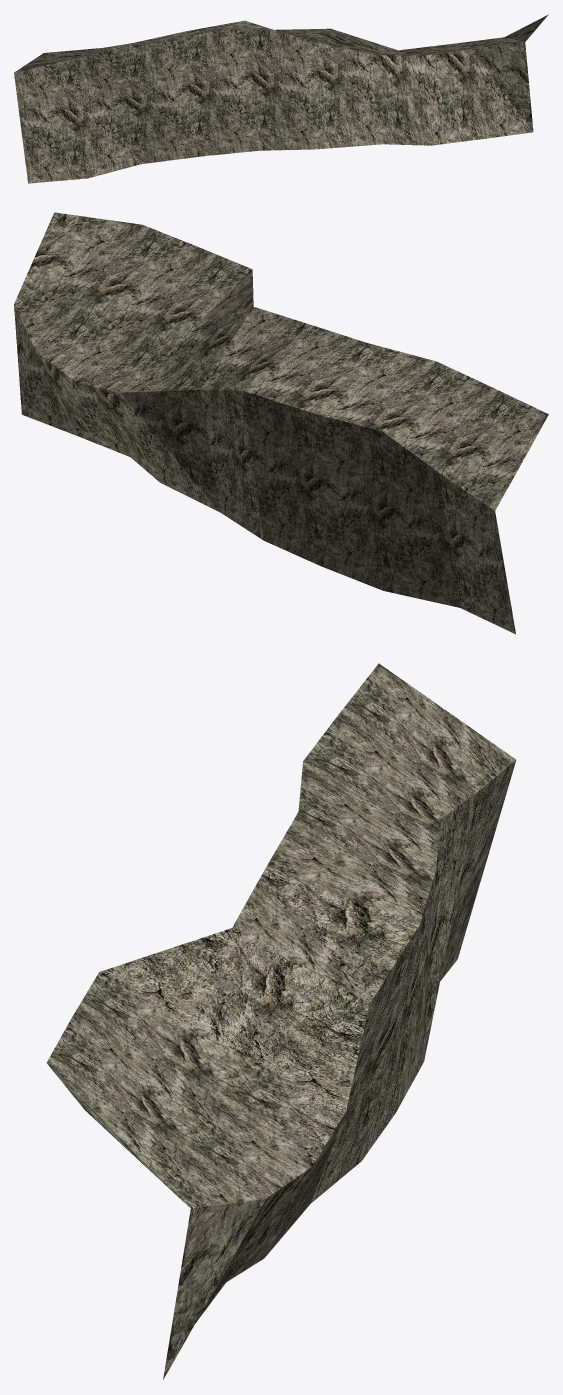
Rendered from cegroundt205a.obj.
3 views of the same model, one above another, from view 1: azimuth 30°, elevation 25°; view 2: azimuth 150°, elevation 25°; view 3: azimuth 270°, elevation 25° (orthographic). The views are drawn at different scales.
Parts seen in each view (by area): view 1: CEgroundT205A; view 2: CEgroundT205A; view 3: CEgroundT205A.
Boxes of the visible parts, x1,y1,x2,y2 form: CEgroundT205A: (14,14,548,183); CEgroundT205A: (14,212,548,634); CEgroundT205A: (46,663,516,1379).
Size of the model in its own units: 150 by 48.17 by 70.21.
1 material, 1 textured.
